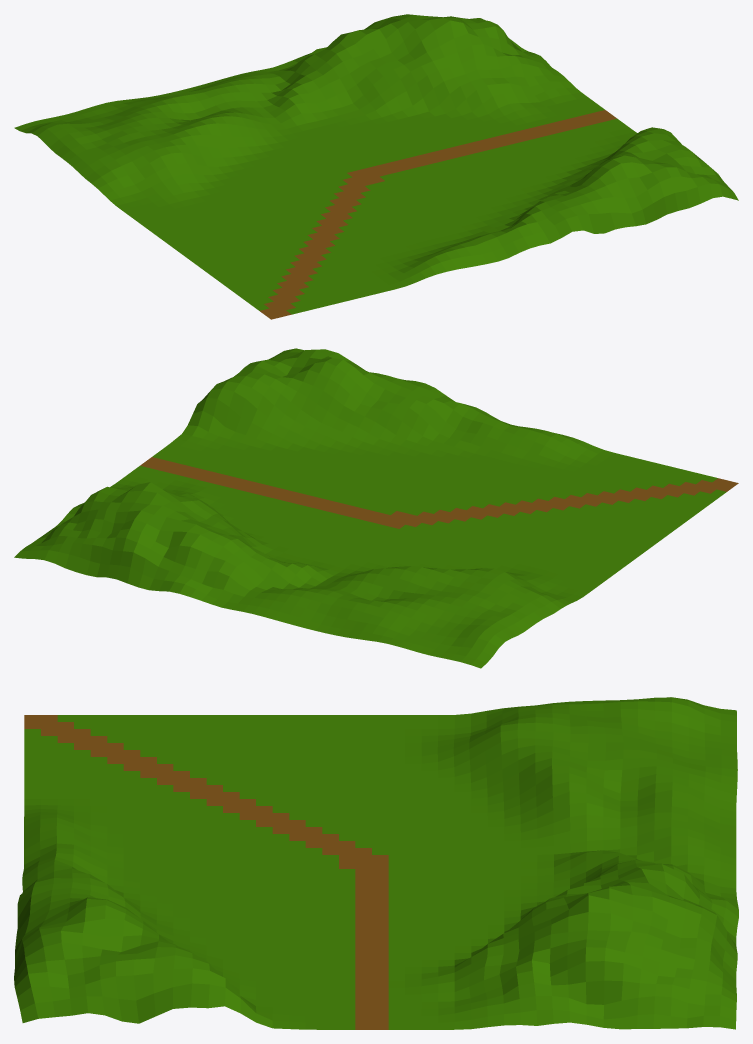
The model's file is Terrain.fbx.
3 views of the same model, one above another, from view 1: azimuth 30°, elevation 25°; view 2: azimuth 150°, elevation 25°; view 3: azimuth 270°, elevation 25° (orthographic). The views are drawn at different scales.
Visible parts, largest first — view 1: Plane; view 2: Plane; view 3: Plane.
Boxes of the visible parts, x1,y1,x2,y2 form: Plane: (14,14,738,319); Plane: (14,348,738,668); Plane: (14,697,738,1029).
Size of the model in its own units: 9113 by 1049 by 8762.
